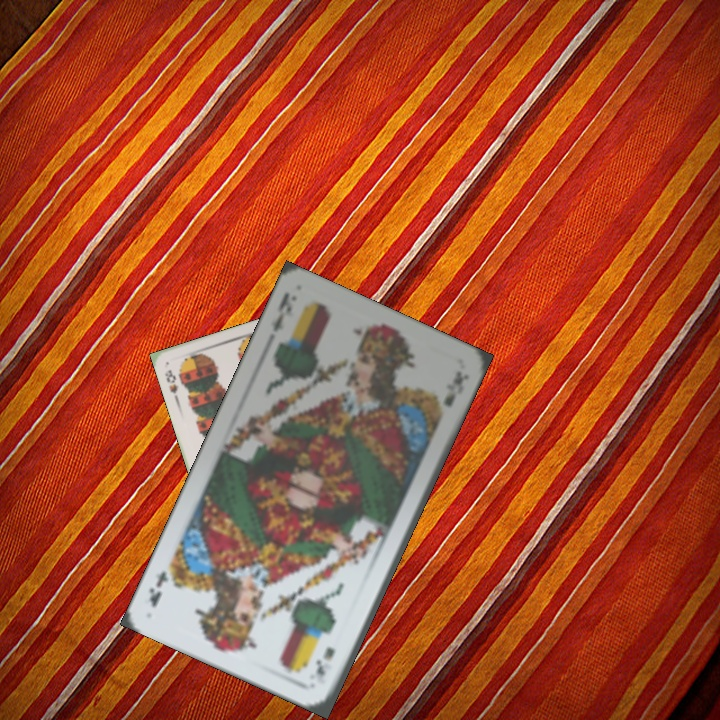EK: (267, 288, 296, 334), (312, 642, 338, 680)
S8: (161, 366, 181, 403)
